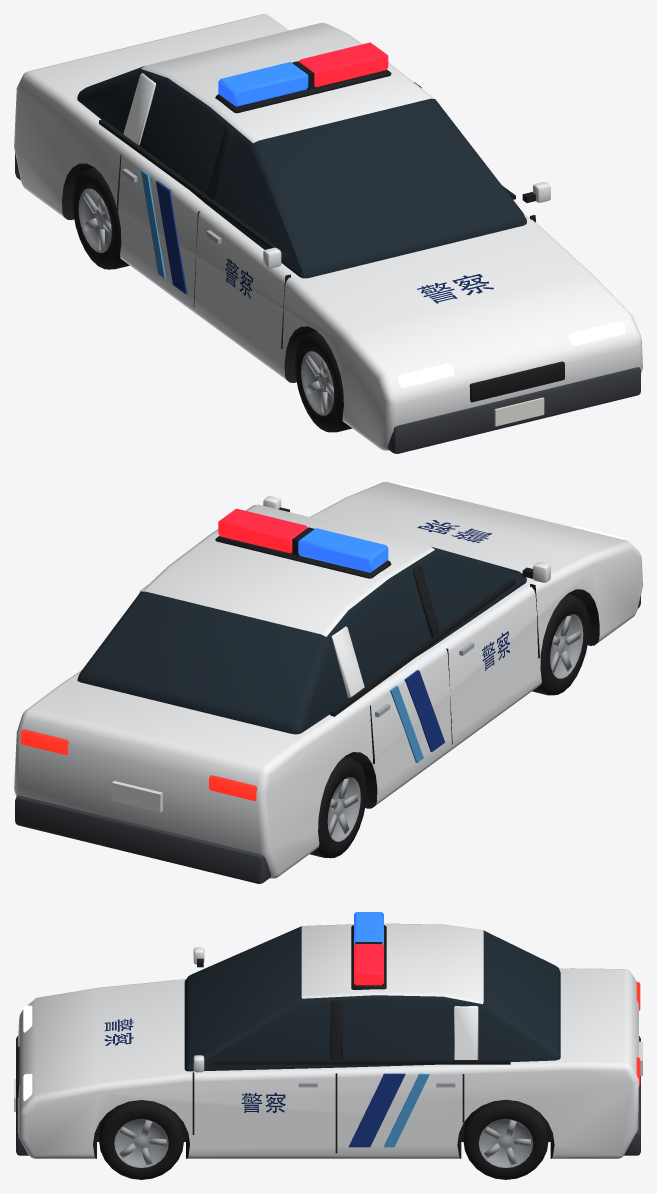
Rendered from police.glb.
The picture shows the model from 3 angles, top to bottom: view 1: azimuth 30°, elevation 25°; view 2: azimuth 150°, elevation 25°; view 3: azimuth 270°, elevation 25°; orthographic projection. The views are drawn at different scales.
Parts seen in each view (by area): view 1: body, wheel_rr, wheel_fr; view 2: body, wheel_fr, wheel_rr; view 3: body, wheel_rl, wheel_fl.
Part boxes in pixels (x1,y1,x2,y2): body: (14, 14, 642, 453); wheel_rr: (72, 167, 129, 269); wheel_fr: (295, 330, 352, 432); body: (14, 482, 642, 883); wheel_fr: (532, 593, 589, 695); wheel_rr: (310, 756, 366, 858); body: (14, 912, 642, 1158); wheel_rl: (463, 1099, 548, 1179); wheel_fl: (99, 1100, 183, 1179).
Bounding box in the file's own units: 1.99 × 1.55 × 4.66.
